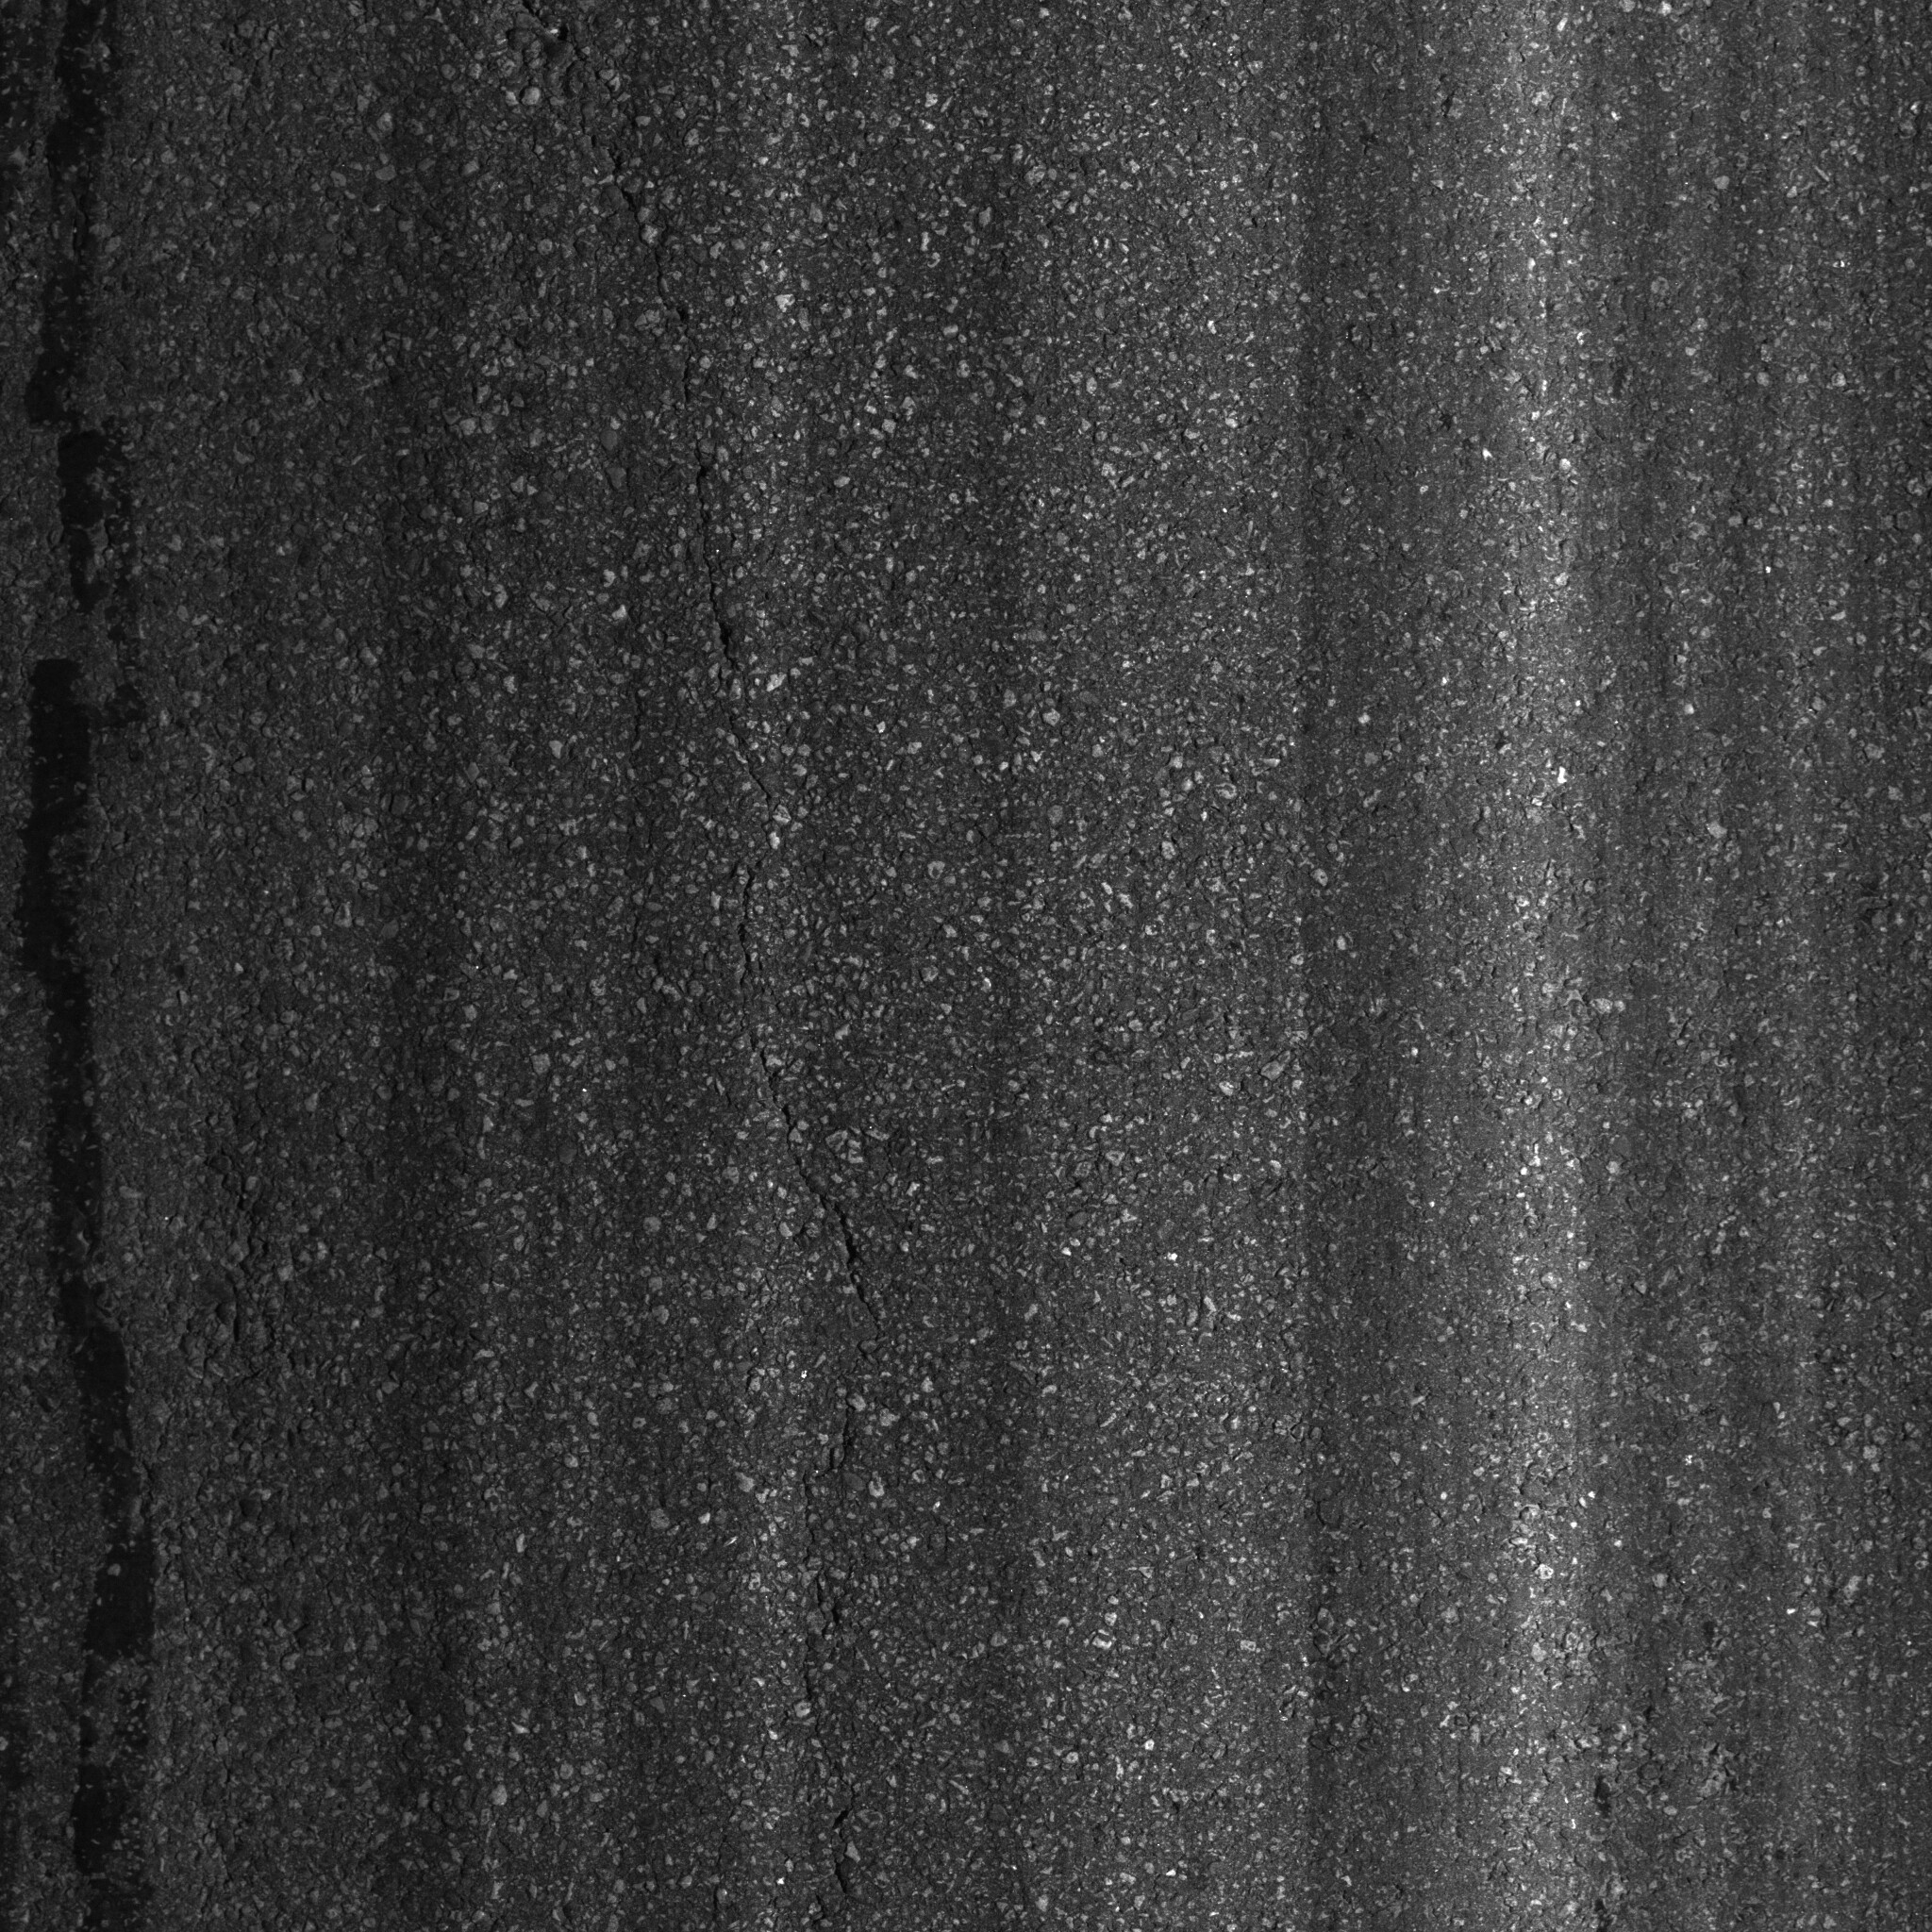longitudinal: (476, 9, 929, 1921)
